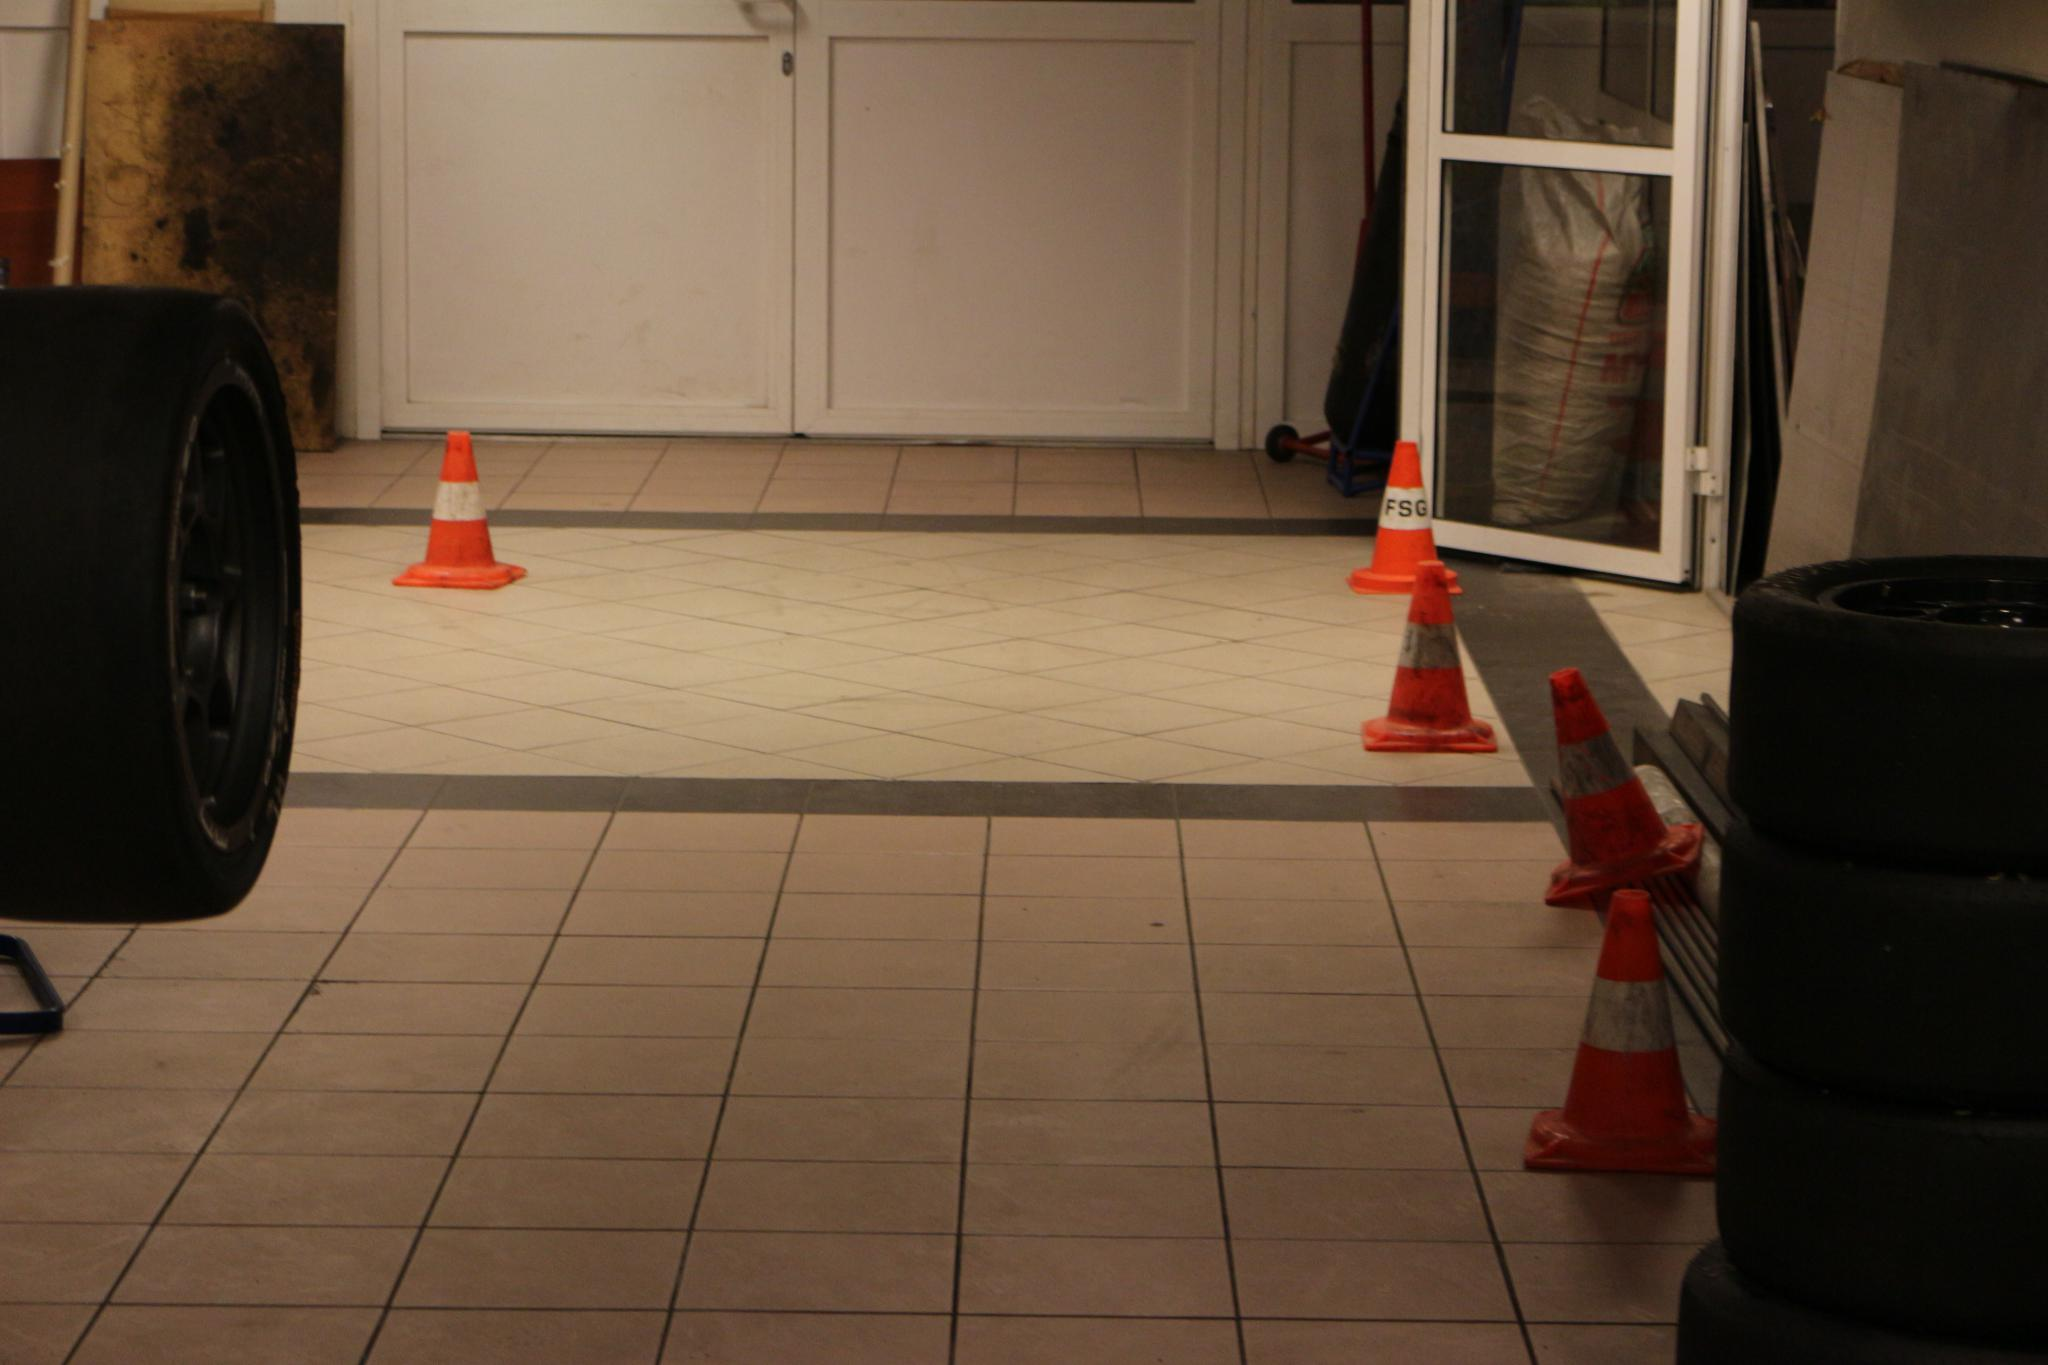Orange_Cone: (1529, 879, 1727, 1176), (1536, 664, 1702, 891), (1345, 551, 1501, 759), (391, 422, 530, 593), (1346, 436, 1475, 597)
